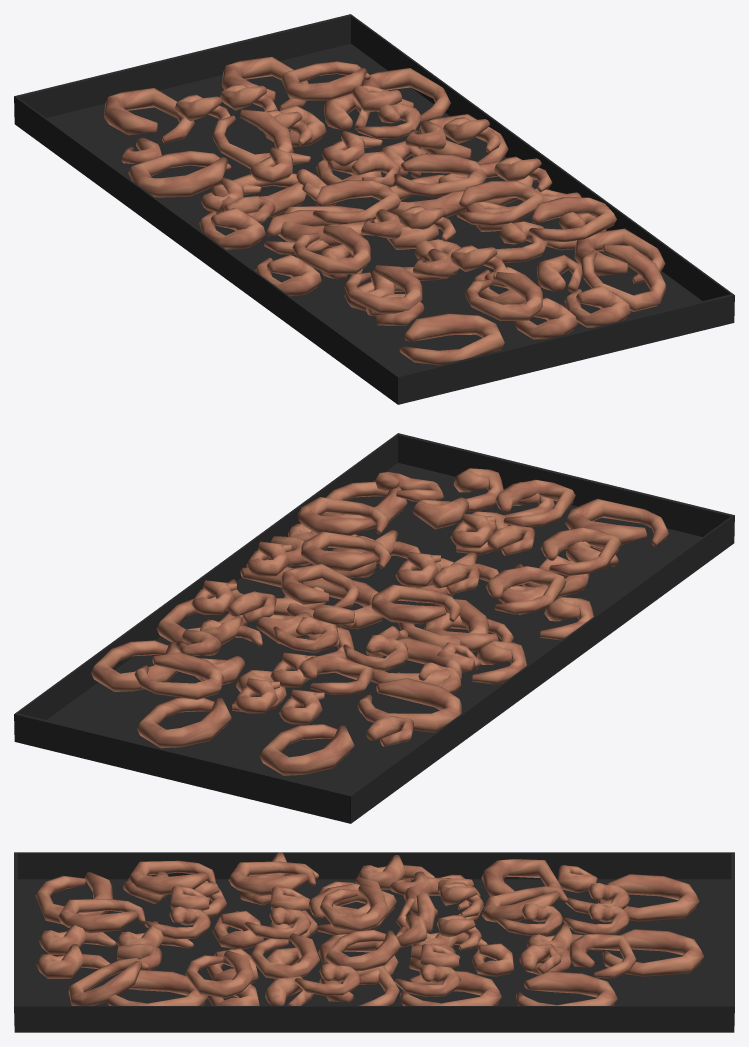
Rendered from tray of isaw.fbx.
3 views of the same model, one above another, from view 1: azimuth 30°, elevation 25°; view 2: azimuth 150°, elevation 25°; view 3: azimuth 270°, elevation 25° (orthographic). The views are drawn at different scales.
Visible parts, largest first — view 1: tray.002, isaw 2.008, isaw 2.012, isaw 2.009, isaw 2.014, isaw 2.023, isaw 2.020, isaw 2.022, isaw 2.019, isaw 2.013, isaw 2.016, isaw 2.021 (+45 smaller); view 2: tray.002, isaw 2.009, isaw 2.010, isaw 2.012, isaw 2.008, isaw 2.019, isaw 2.013, isaw 2.022, isaw 2.023, isaw 2.006, isaw 2.016, isaw 2.021 (+39 smaller); view 3: tray.002, isaw 2.010, isaw 2.009, isaw 2.006, isaw 2.021, isaw 2.016, isaw 2.020, isaw 2.017, isaw 2.004, isaw 2.014, isaw 2.023, isaw 2.013 (+47 smaller).
Part boxes in pixels (bbox=[...]): tray.002: bbox=[14, 14, 734, 404]; isaw 2.008: bbox=[399, 313, 504, 365]; isaw 2.012: bbox=[128, 150, 231, 197]; isaw 2.009: bbox=[104, 88, 194, 143]; isaw 2.014: bbox=[393, 154, 486, 196]; isaw 2.023: bbox=[529, 197, 616, 241]; isaw 2.020: bbox=[581, 244, 666, 311]; isaw 2.022: bbox=[456, 181, 543, 225]; isaw 2.019: bbox=[281, 61, 370, 100]; isaw 2.013: bbox=[312, 180, 400, 224]; isaw 2.016: bbox=[292, 225, 370, 274]; isaw 2.021: bbox=[465, 272, 542, 320]; tray.002: bbox=[14, 433, 734, 823]; isaw 2.009: bbox=[260, 724, 354, 775]; isaw 2.010: bbox=[137, 697, 231, 748]; isaw 2.012: bbox=[357, 678, 461, 732]; isaw 2.008: bbox=[565, 498, 668, 546]; isaw 2.019: bbox=[134, 652, 223, 699]; isaw 2.013: bbox=[371, 584, 461, 624]; isaw 2.022: bbox=[301, 531, 391, 571]; isaw 2.023: bbox=[298, 497, 388, 535]; isaw 2.006: bbox=[91, 640, 180, 691]; isaw 2.016: bbox=[486, 566, 566, 614]; isaw 2.021: bbox=[495, 479, 575, 527]; tray.002: bbox=[14, 852, 734, 1032]; isaw 2.010: bbox=[602, 929, 703, 976]; isaw 2.009: bbox=[598, 874, 699, 921]; isaw 2.006: bbox=[516, 971, 617, 1005]; isaw 2.021: bbox=[58, 899, 145, 933]; isaw 2.016: bbox=[228, 861, 315, 895]; isaw 2.020: bbox=[68, 958, 148, 1005]; isaw 2.017: bbox=[128, 860, 215, 894]; isaw 2.004: bbox=[107, 970, 207, 1005]; isaw 2.014: bbox=[325, 929, 400, 971]; isaw 2.023: bbox=[185, 950, 254, 998]; isaw 2.013: bbox=[319, 884, 388, 931].
Size of the model in its own units: 98.83 by 7.3 by 50.04.
